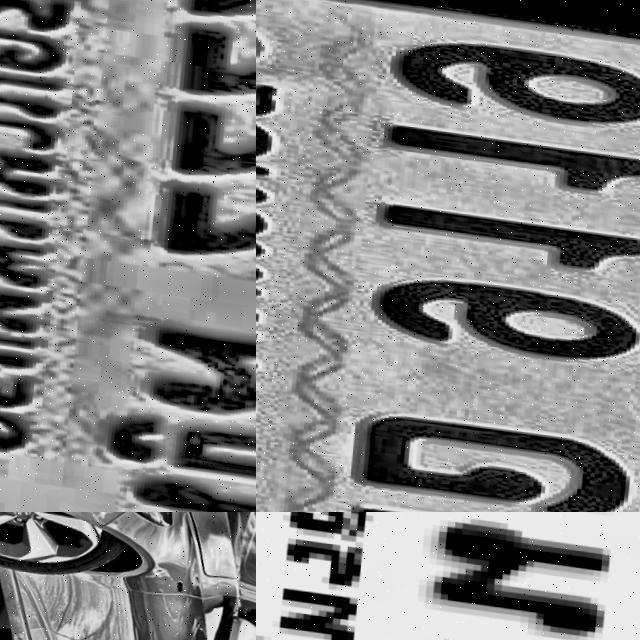license-plate: (256, 0, 640, 512), (0, 0, 256, 512), (256, 512, 640, 640)
